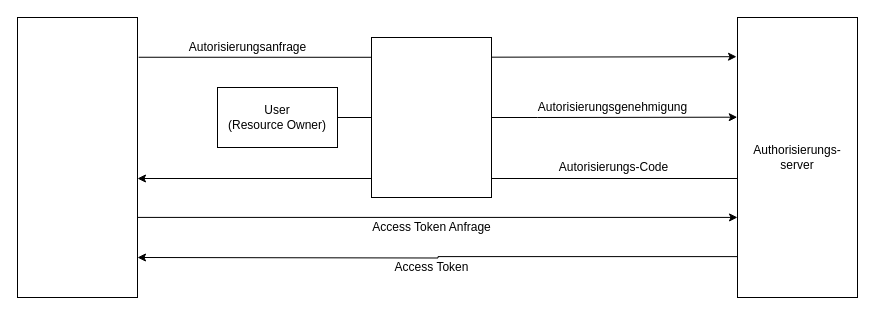
Image size: 875x315. Some labels were removed from this diagram. The shapes that lost their labels are listed below. From the top down, each one's centre as x and y in pixels, then its label:
At (431,117): "Webbrowser (User Agent)".
At (77,157): "Applikation (Client)".
